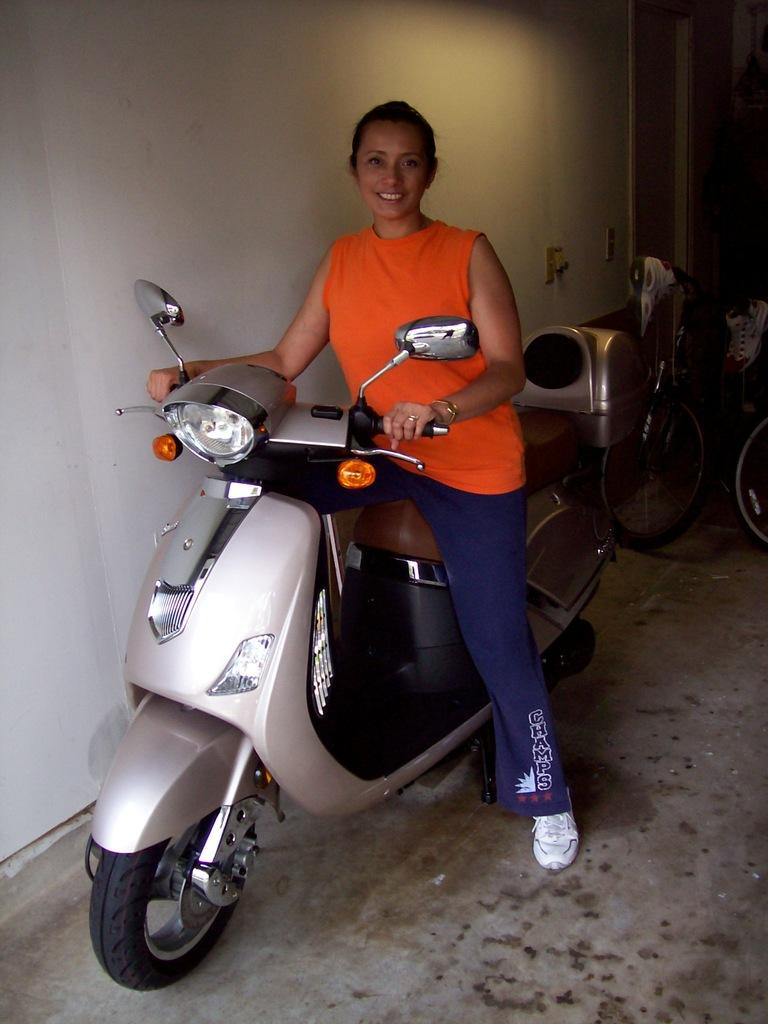no_helmet: (344, 102, 454, 231)
none: (322, 208, 509, 490)
